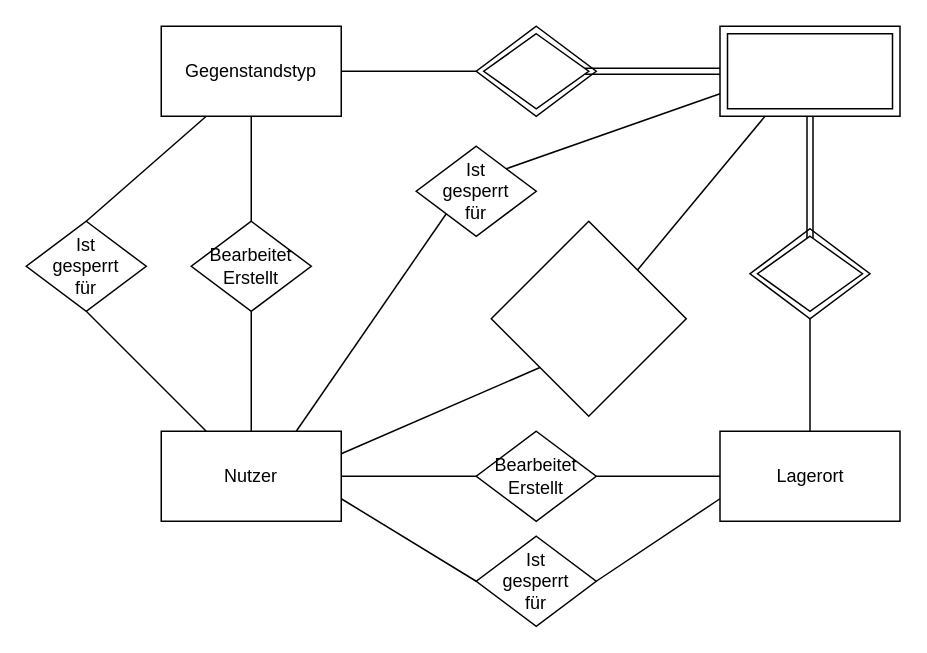
This 927x653 diagram has some shape labels left out. The box of each missing label's shape, as (x1, y1, x2, y2) in pixels:
Bearbeitet Erstellt Lagert ein Lagert aus Löscht: (490, 220, 686, 416)
Gegenstand: (726, 32, 892, 109)
Ist vom Typ: (482, 32, 589, 109)
Liegt an: (756, 235, 862, 311)
